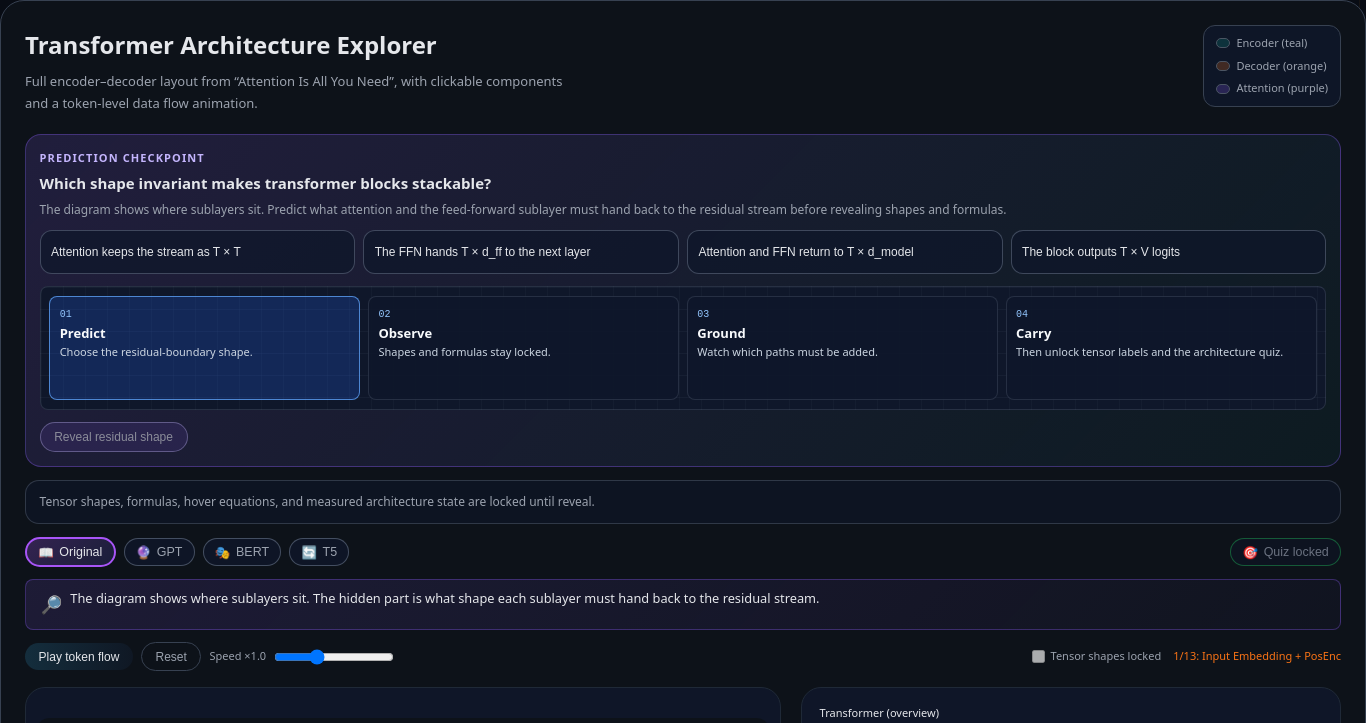
TransformerArchitectureViz residual-shape reveal › clears stale reveal and shared state when prediction or architecture variant changes
Click the button "Attention and FFN return to T × d_model" at (845, 252), box [687,230,1003,274]
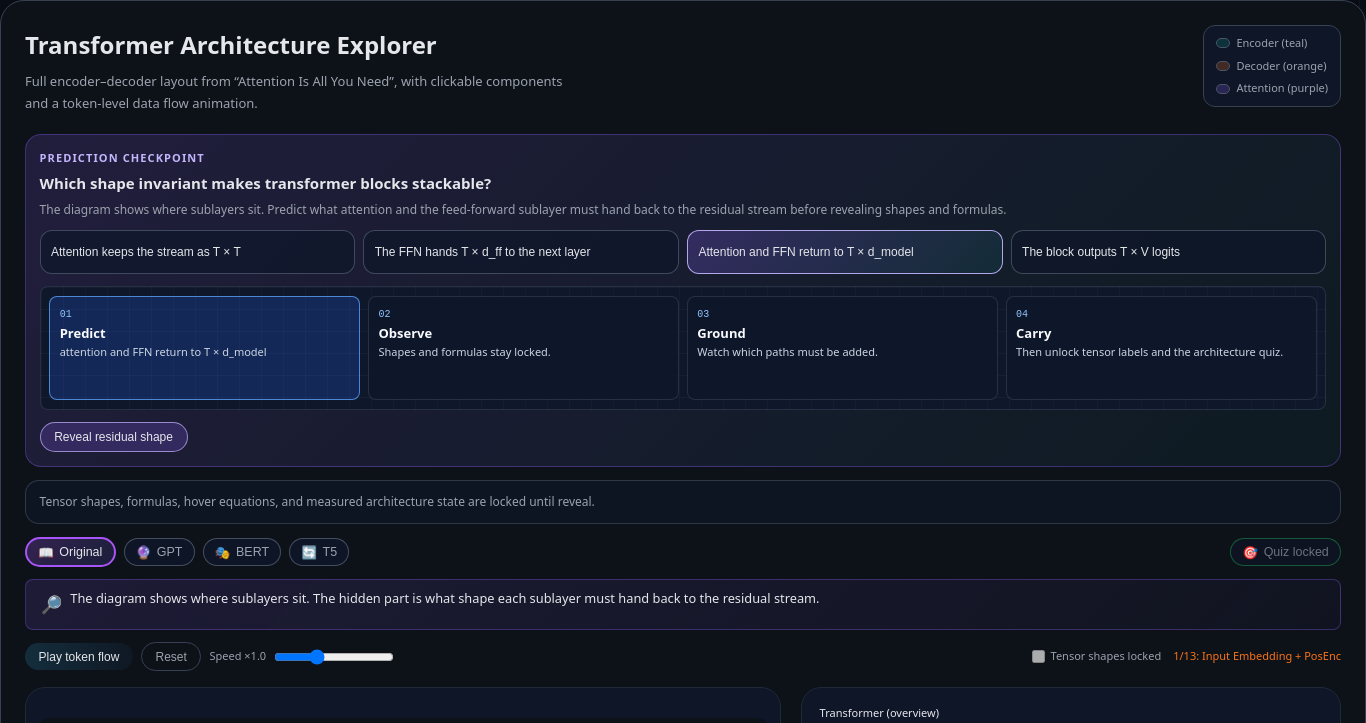
Click the button "Reveal residual shape" at (114, 437), box [40,422,188,452]
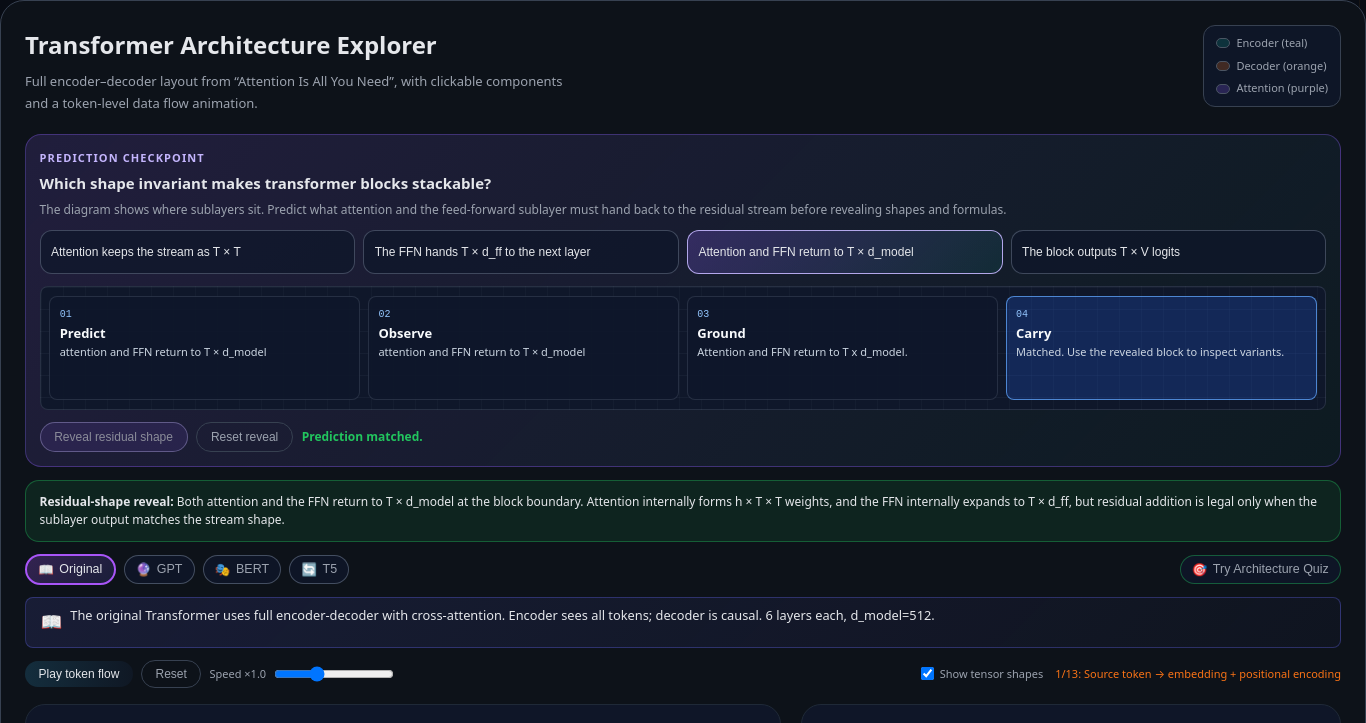
expect the text "Prediction matched." is shown: met, box [302,427,423,447]
Click the button "The block outputs T × V logits" at (1169, 252), box [1011,230,1326,274]
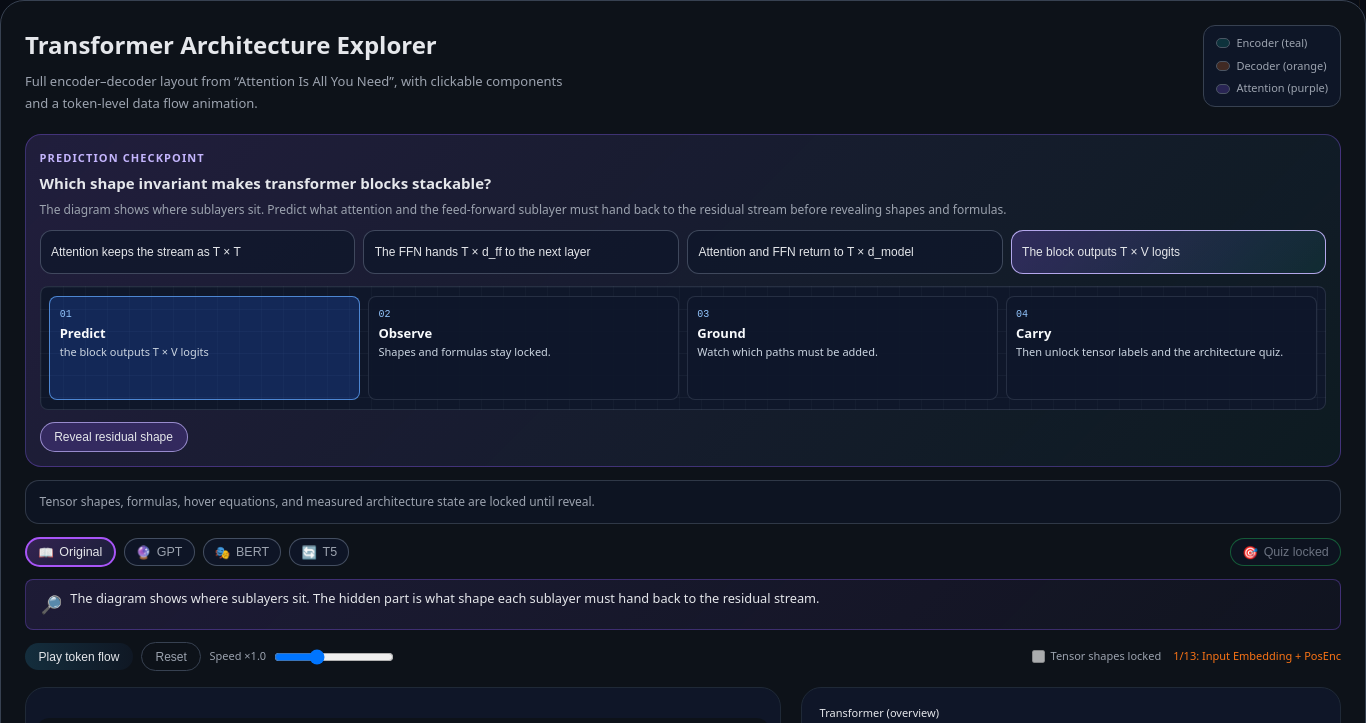
expect the text "Prediction matched." is gone: met
expect the text "Residual-shape reveal:" is gone: met
expect the button "Reveal residual shape" is enabled: met
Click the button "Reveal residual shape" at (114, 437), box [40,422,188,452]
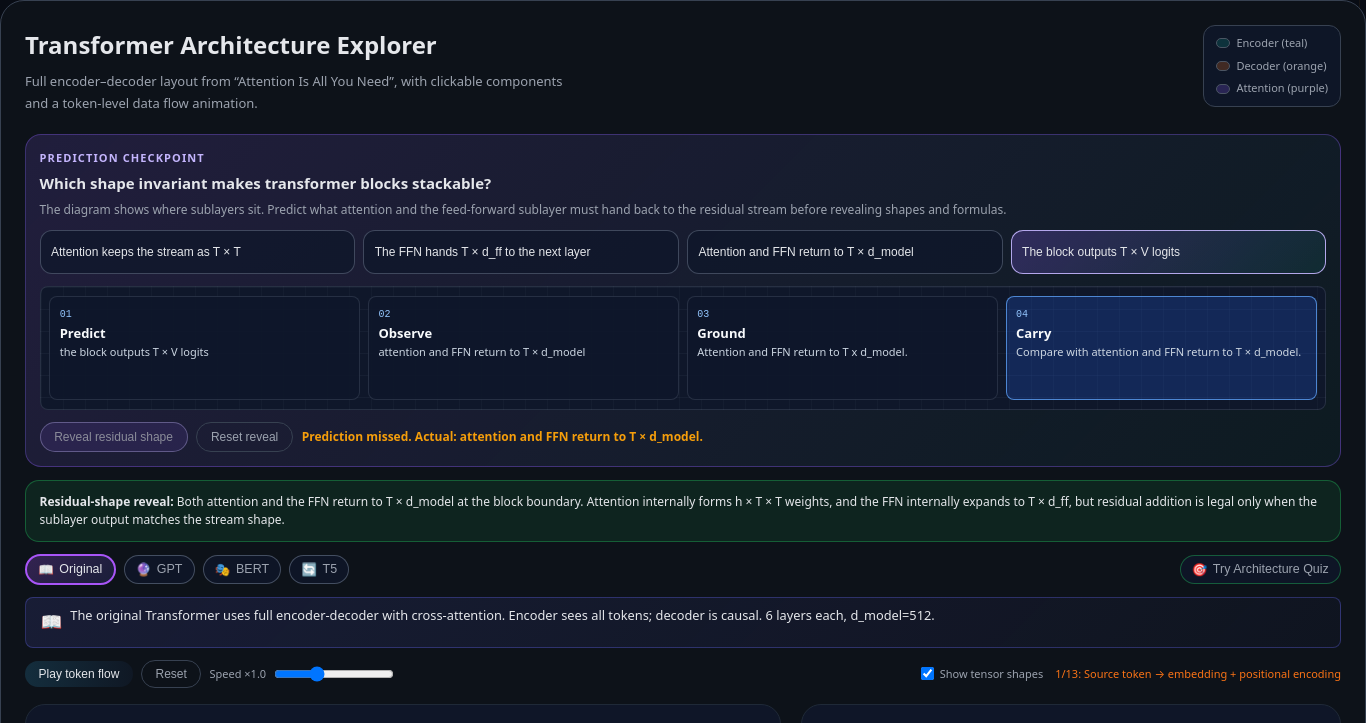
expect the text "Prediction missed" is shown: met, box [302,428,703,445]
Click the button "🔮 GPT" at (159, 569), box [124,555,195,584]
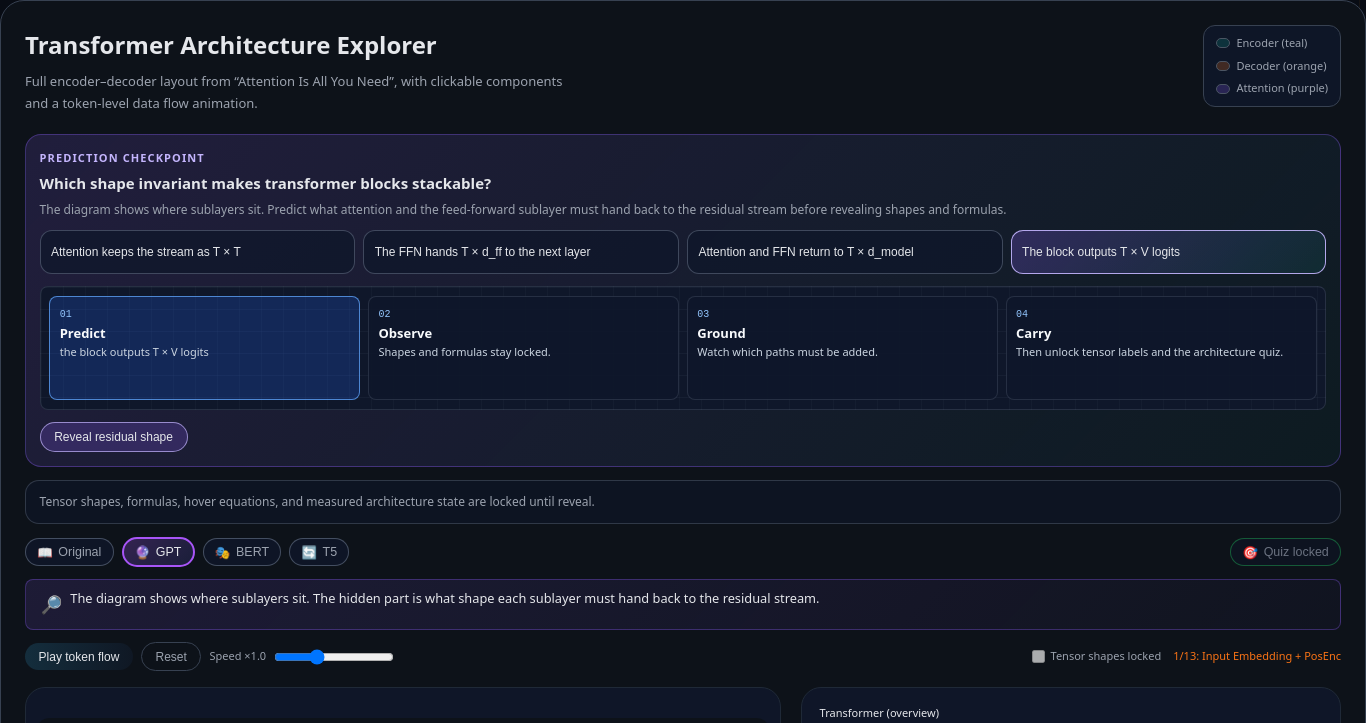
expect the text "Prediction missed" is gone: met
expect the text "Residual-shape reveal:" is gone: met
